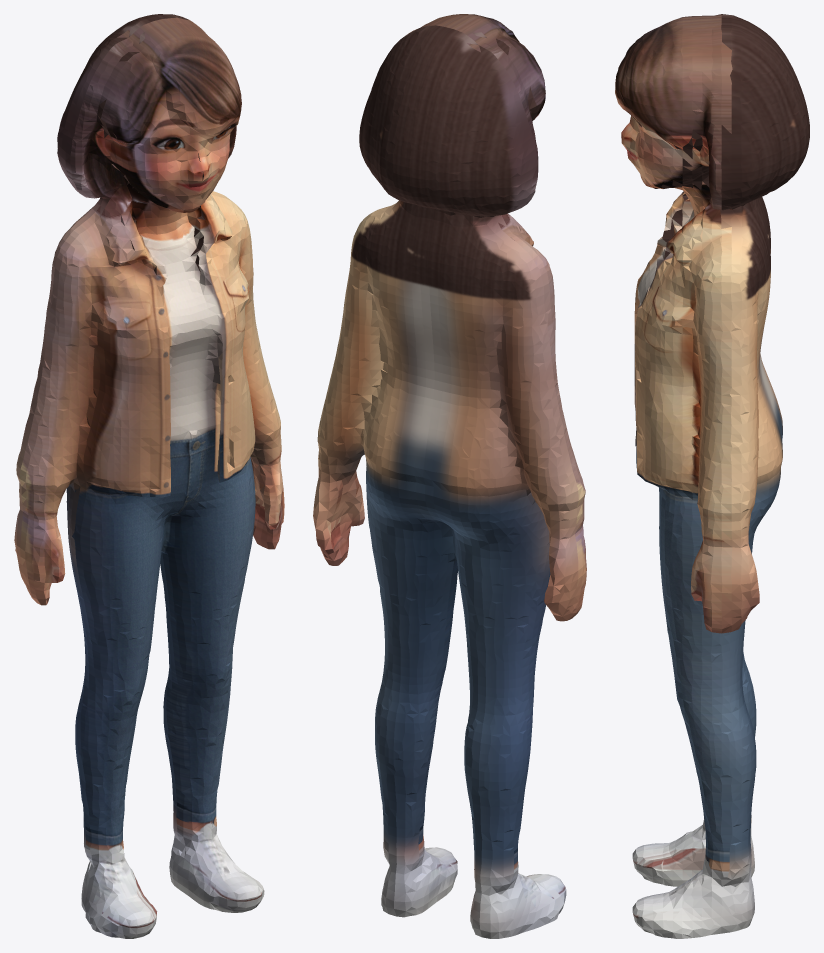
Rendered from nana.glb.
The picture shows the model from 3 angles, left to right: view 1: azimuth 30°, elevation 25°; view 2: azimuth 150°, elevation 25°; view 3: azimuth 270°, elevation 25°; orthographic projection.
Parts seen in each view (by area): view 1: geometry_0; view 2: geometry_0; view 3: geometry_0.
Part boxes in pixels (x1,y1,x2,y2): geometry_0: [14, 14, 284, 938]; geometry_0: [313, 14, 586, 938]; geometry_0: [615, 14, 809, 938].
Bounding box in the file's own units: 0.3064 × 1 × 0.1999.
1 material, 1 textured.
